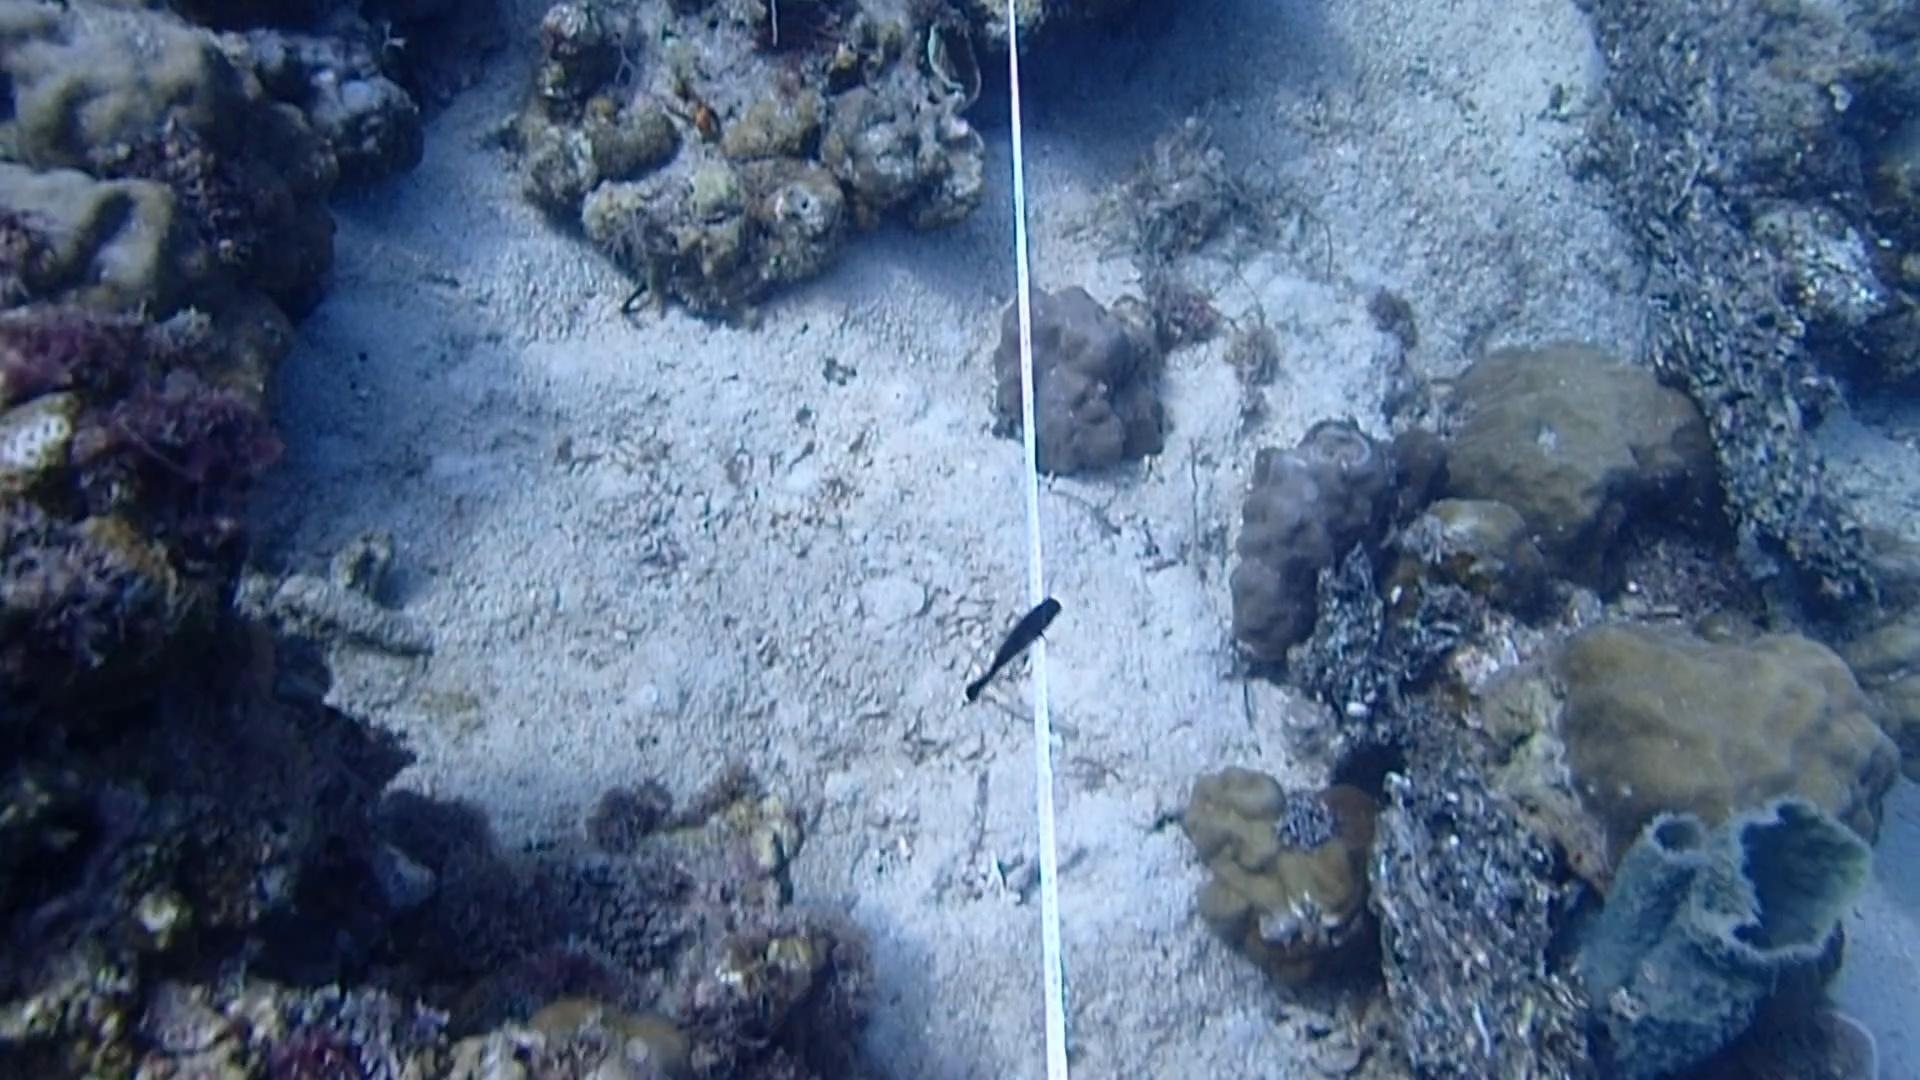Dark Fish: (945, 571, 1088, 717)
